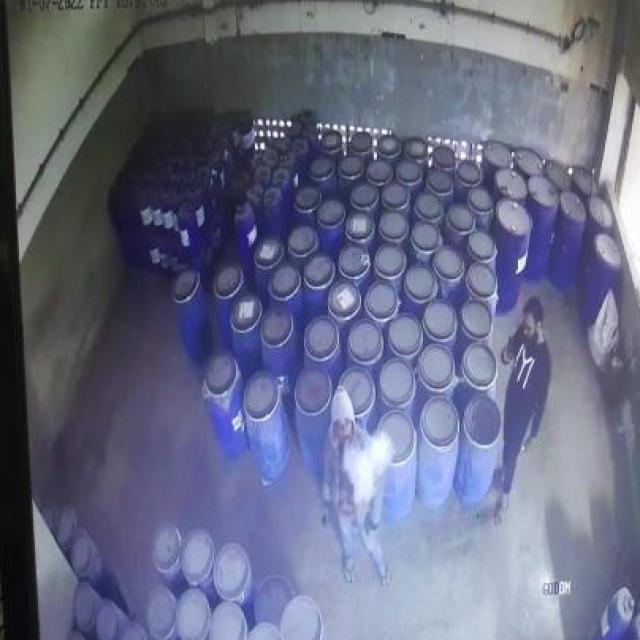fire: (342, 428, 396, 515)
